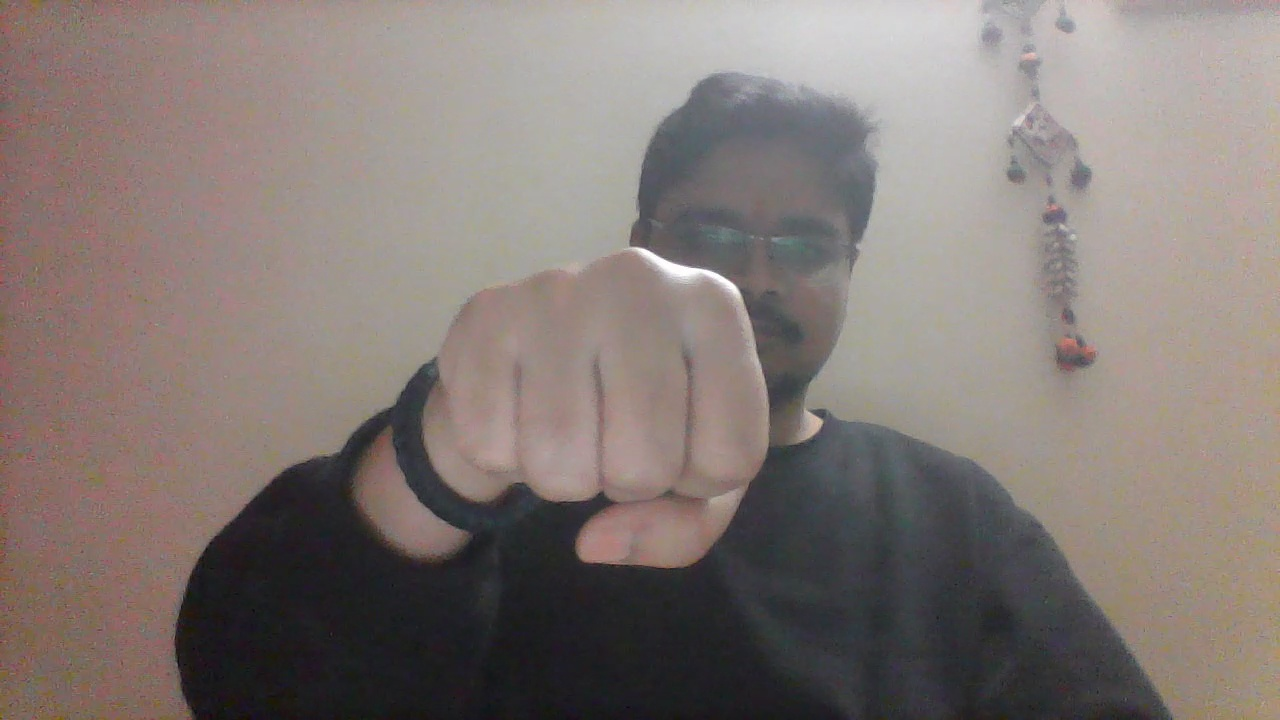Yes: (438, 241, 777, 568)
